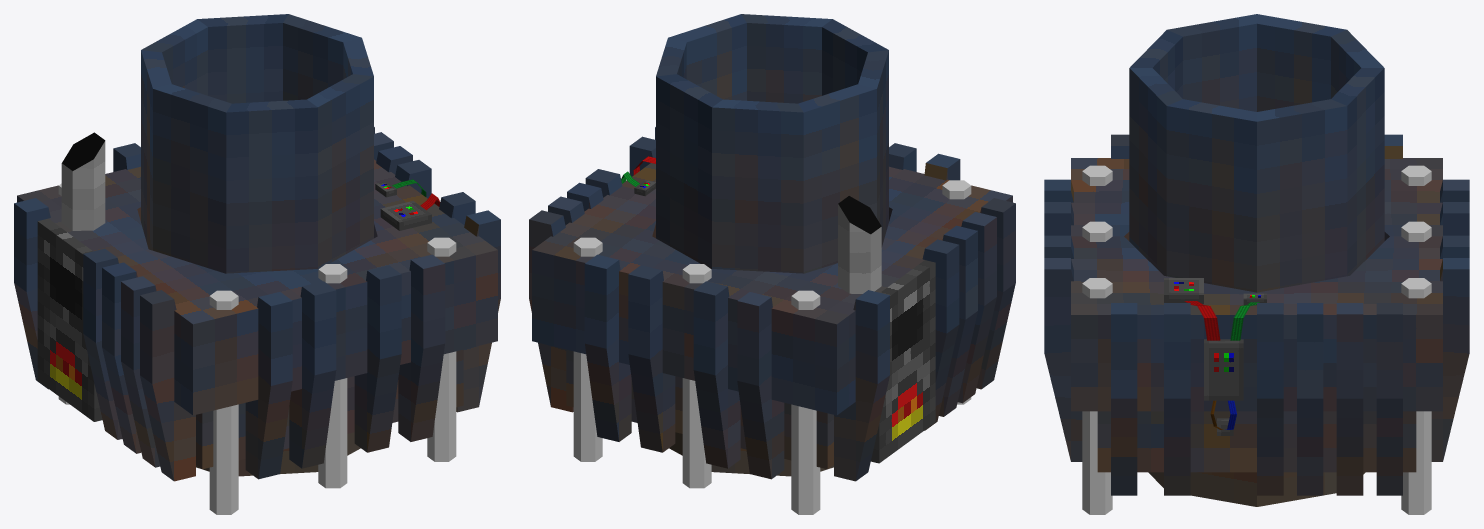
The model's file is vaultcorer.obj.
The picture shows the model from 3 angles, left to right: view 1: azimuth 30°, elevation 25°; view 2: azimuth 150°, elevation 25°; view 3: azimuth 270°, elevation 25°; orthographic projection. The views are drawn at different scales.
Visible parts, largest first — view 1: drill, heatsink, chassy, bolts, fuelport, exhaust, curcuits; view 2: heatsink, drill, chassy, bolts, fuelport, exhaust; view 3: drill, chassy, heatsink, bolts, curcuits, riboncable.
Boxes of the visible parts, x1,y1,x2,y2 form: drill: (141,14,373,476); heatsink: (14,127,500,481); chassy: (17,159,497,469); bolts: (58,183,456,514); fuelport: (37,218,102,421); exhaust: (61,132,105,230); curcuits: (375,181,431,230); heatsink: (529,127,1015,481); drill: (656,14,888,476); chassy: (532,163,1012,469); bolts: (573,180,971,514); fuelport: (871,260,935,463); exhaust: (838,196,881,293); drill: (1129,14,1384,506); chassy: (1071,158,1442,472); heatsink: (1044,134,1469,495); bolts: (1082,165,1431,514); curcuits: (1164,278,1266,435); riboncable: (1184,301,1259,429).
Size of the model in its own units: 2 by 2 by 2.
